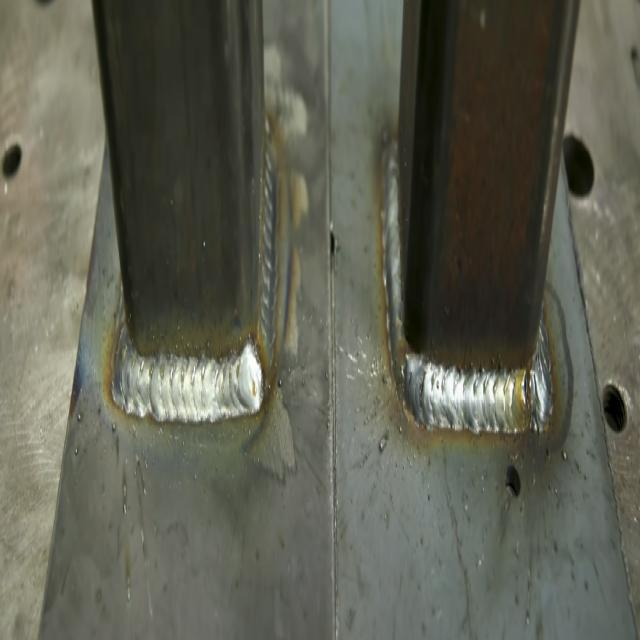Good Weld: (120, 347, 264, 432), (408, 354, 524, 436)
